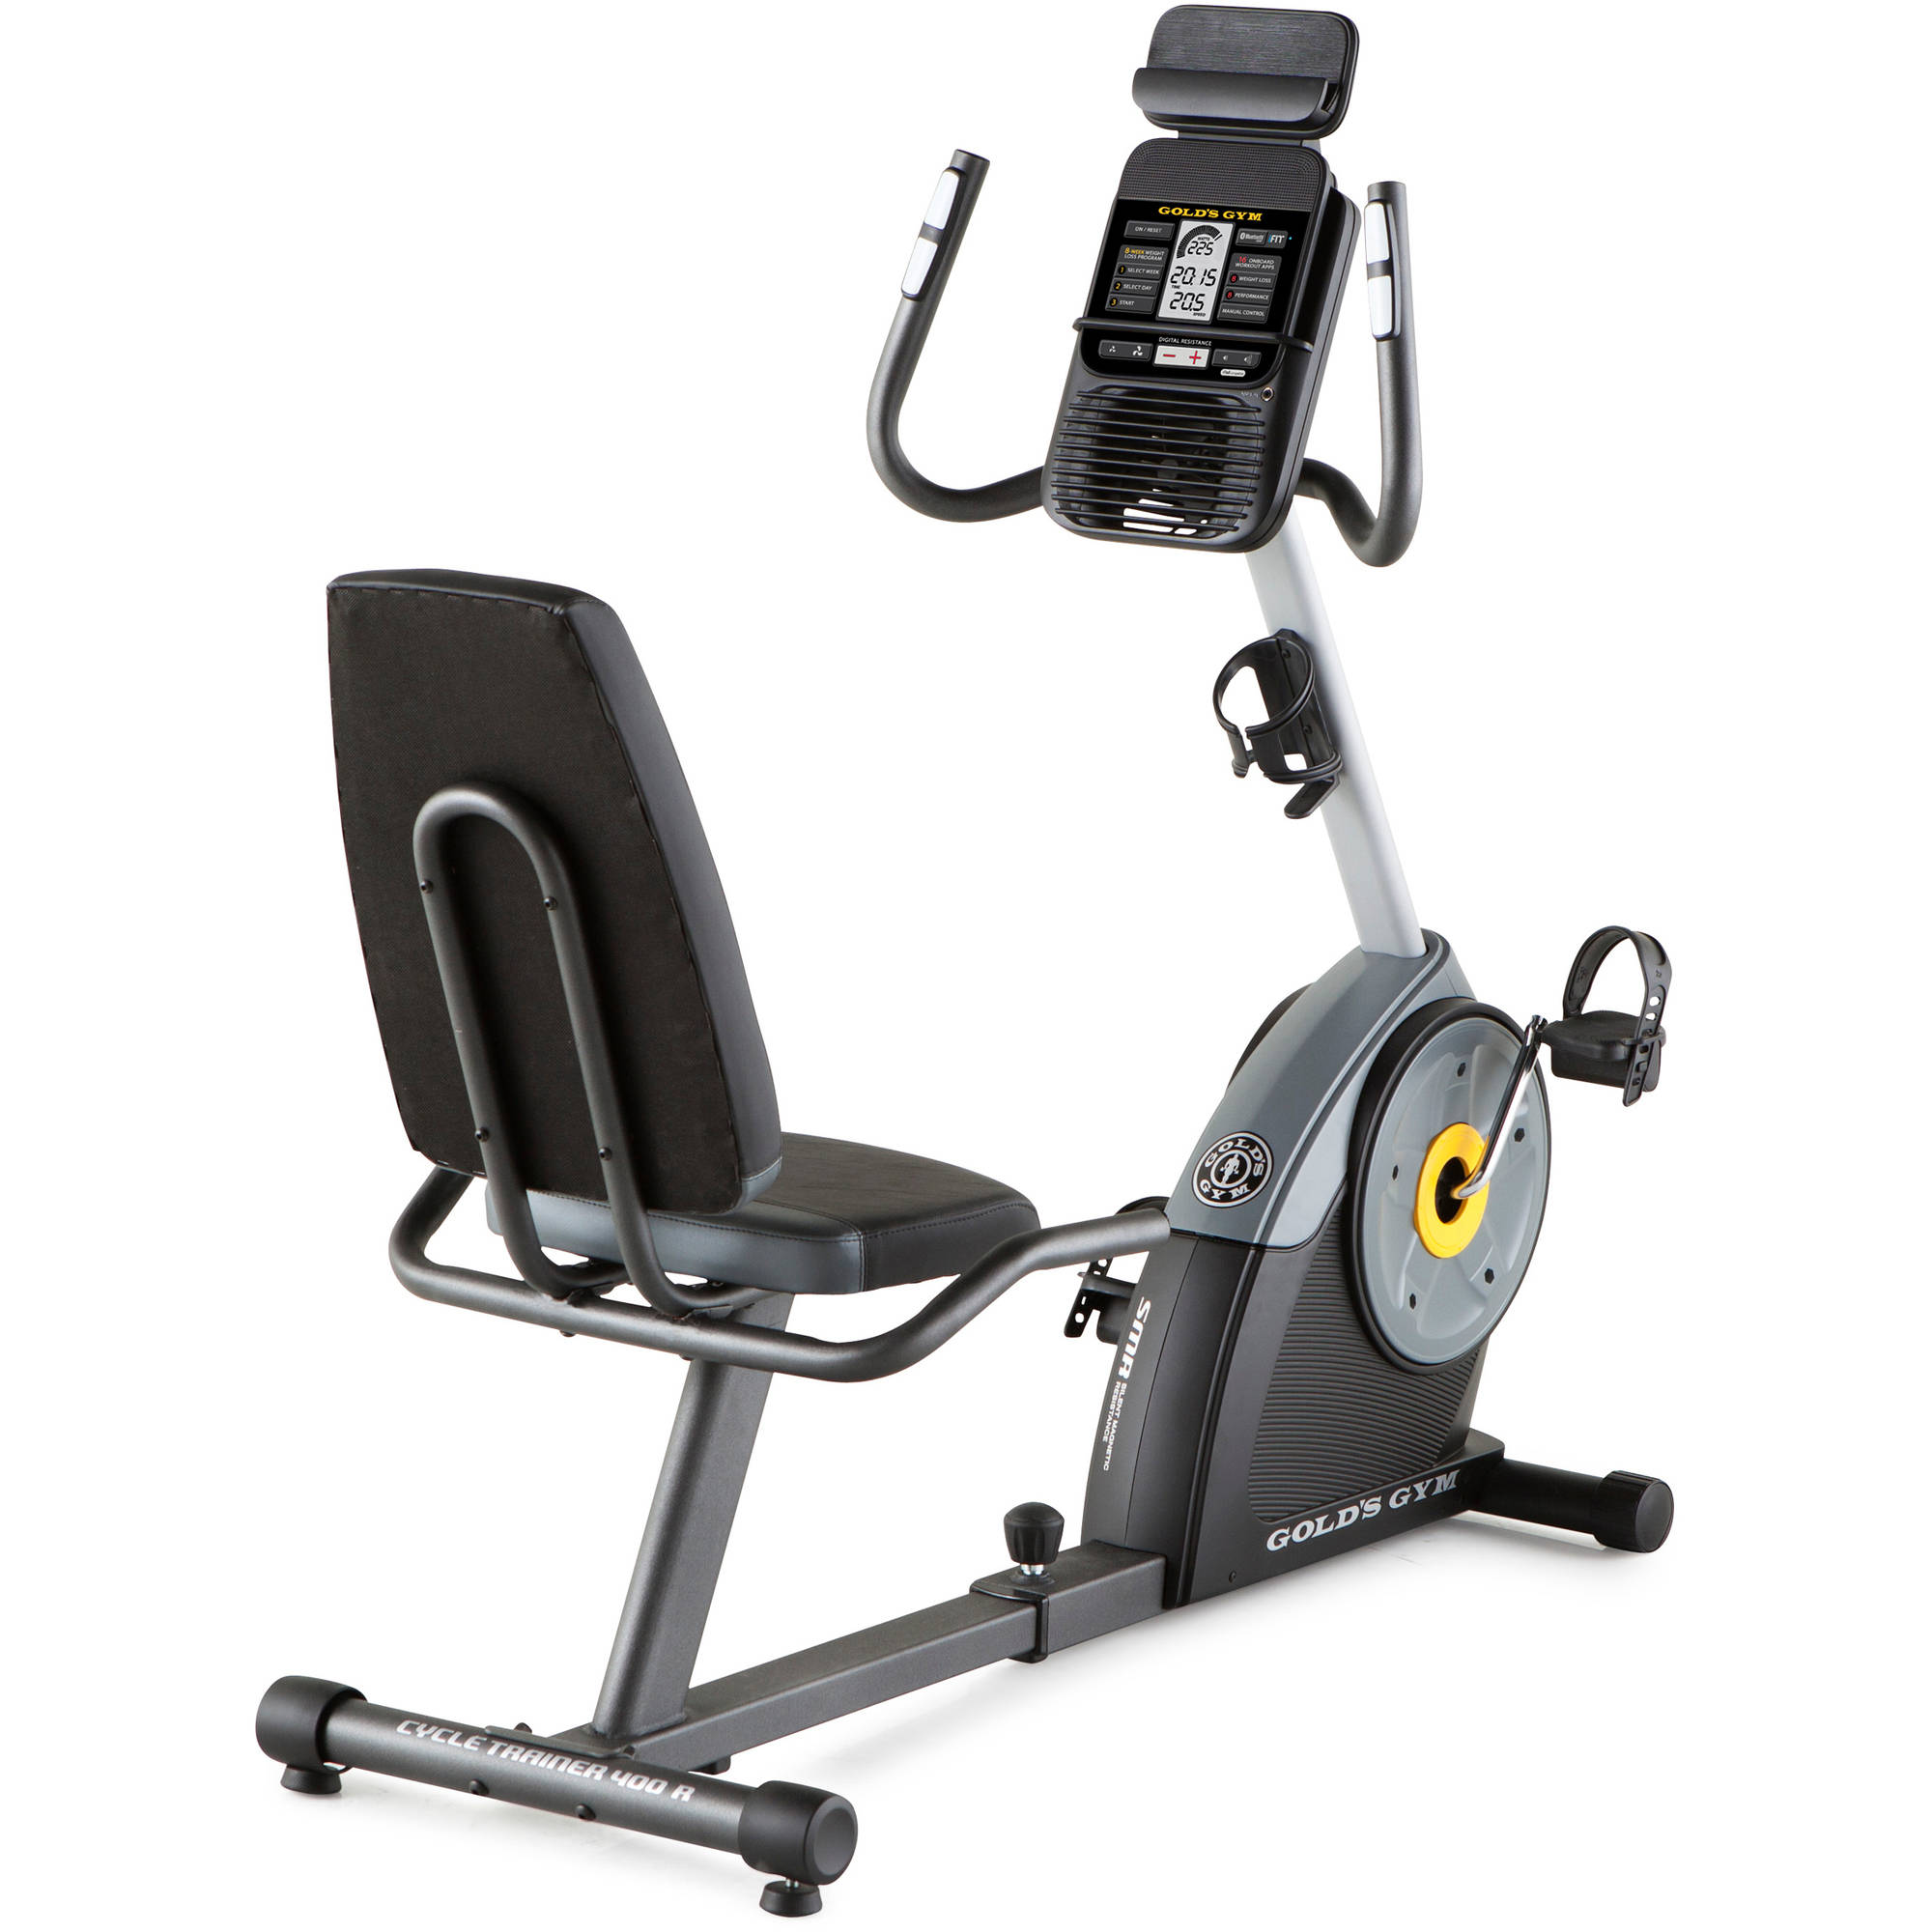gym_bike: (257, 16, 1695, 1891)
